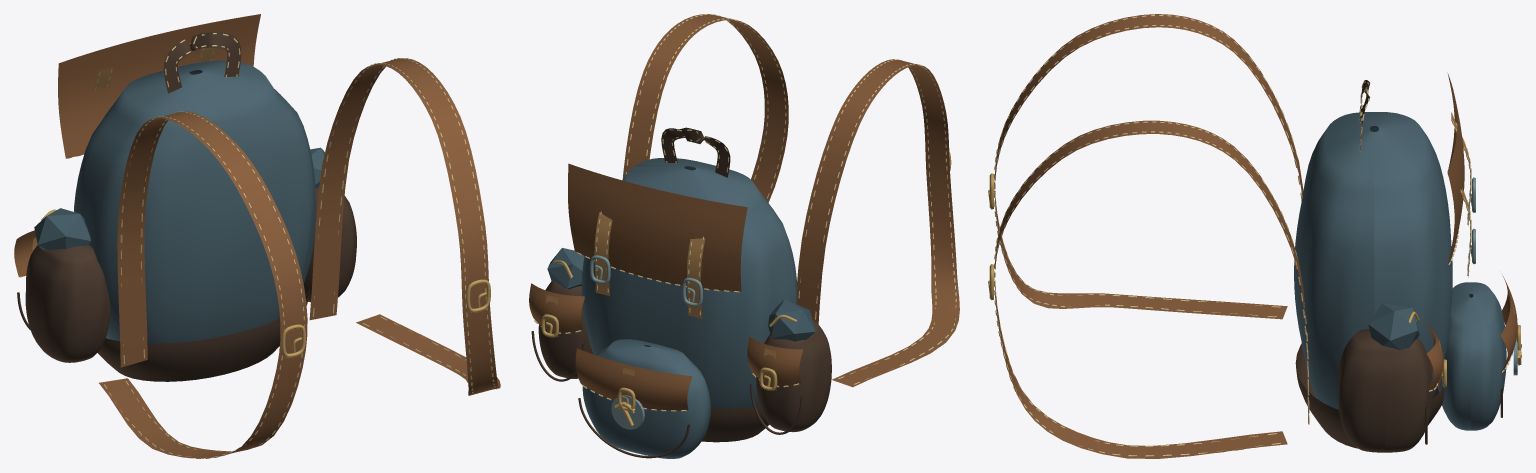
Rendered from mining_pack.glb.
The picture shows the model from 3 angles, left to right: view 1: azimuth 30°, elevation 25°; view 2: azimuth 150°, elevation 25°; view 3: azimuth 270°, elevation 25°; orthographic projection. The views are drawn at different scales.
Parts seen in each view (by area): view 1: mining_pack-leather, mining_pack-canvas, mining_pack-dark, mining_pack-stitch, mining_pack-ore, mining_pack-brass, mining_pack-trim; view 2: mining_pack-leather, mining_pack-canvas, mining_pack-dark, mining_pack-stitch, mining_pack-ore, mining_pack-trim, mining_pack-iron, mining_pack-brass; view 3: mining_pack-canvas, mining_pack-leather, mining_pack-dark, mining_pack-stitch, mining_pack-ore, mining_pack-brass.
Boxes of the visible parts, <box> form: mining_pack-leather: <box>14,14,500,458</box>; mining_pack-canvas: <box>74,60,316,343</box>; mining_pack-dark: <box>17,31,356,381</box>; mining_pack-stitch: <box>19,33,496,458</box>; mining_pack-ore: <box>34,147,324,250</box>; mining_pack-brass: <box>41,209,490,357</box>; mining_pack-trim: <box>32,47,216,250</box>; mining_pack-leather: <box>529,14,959,410</box>; mining_pack-canvas: <box>581,158,797,458</box>; mining_pack-dark: <box>531,127,831,458</box>; mining_pack-stitch: <box>534,14,956,411</box>; mining_pack-ore: <box>547,248,815,341</box>; mining_pack-trim: <box>545,212,776,396</box>; mining_pack-iron: <box>589,255,702,429</box>; mining_pack-brass: <box>541,152,951,426</box>; mining_pack-canvas: <box>1294,112,1506,430</box>; mining_pack-leather: <box>994,14,1517,458</box>; mining_pack-dark: <box>1295,80,1502,452</box>; mining_pack-stitch: <box>994,15,1511,456</box>; mining_pack-ore: <box>1368,303,1419,350</box>; mining_pack-brass: <box>988,173,1521,387</box>.
Bounding box in the file's own units: 0.8105 × 0.7922 × 1.12.
